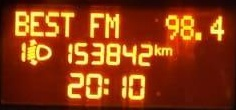-: (193, 29, 204, 41)
0: (127, 73, 146, 101), (85, 71, 102, 100)
1: (118, 71, 127, 101), (18, 39, 26, 63), (66, 40, 73, 66)
2: (65, 70, 83, 99), (137, 41, 152, 67)
3: (90, 40, 104, 65)
4: (208, 11, 226, 43), (121, 40, 135, 67)
5: (74, 40, 88, 67)
8: (180, 12, 194, 42), (106, 40, 121, 66)
9: (164, 13, 179, 39)
X: (102, 10, 121, 39), (59, 8, 77, 38), (87, 8, 104, 38), (13, 7, 28, 38), (29, 7, 43, 38), (45, 8, 59, 38), (101, 75, 109, 97), (161, 45, 173, 56), (153, 41, 161, 55)
